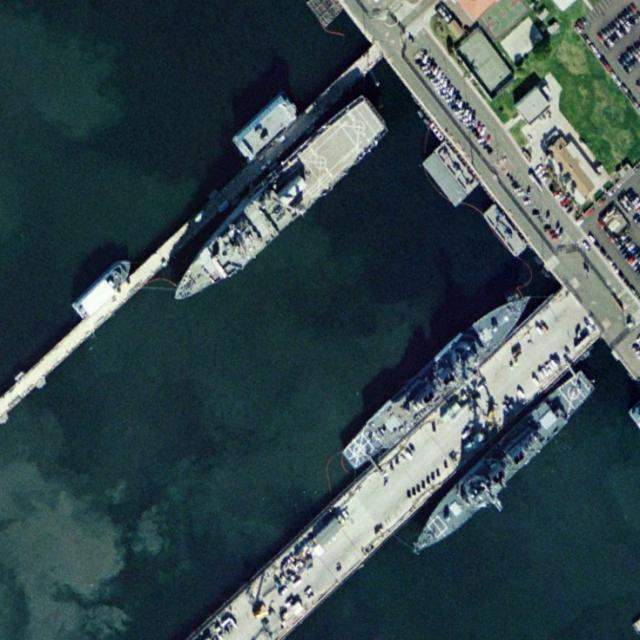Destroyer: (336, 275, 543, 480), (400, 362, 600, 568)
Landing: (157, 87, 392, 316)
Other Ship: (71, 254, 137, 321)
